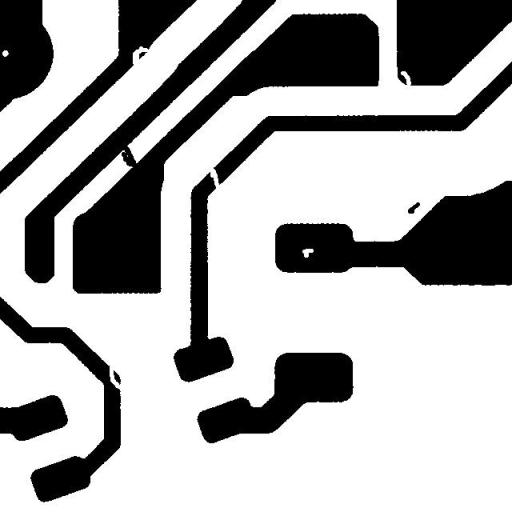copper: (400, 194, 427, 221)
mousebite: (125, 38, 155, 72), (393, 63, 418, 93)
open: (102, 356, 131, 398), (202, 160, 228, 198)
pin-hole: (294, 241, 321, 265)
short: (114, 138, 146, 178)
